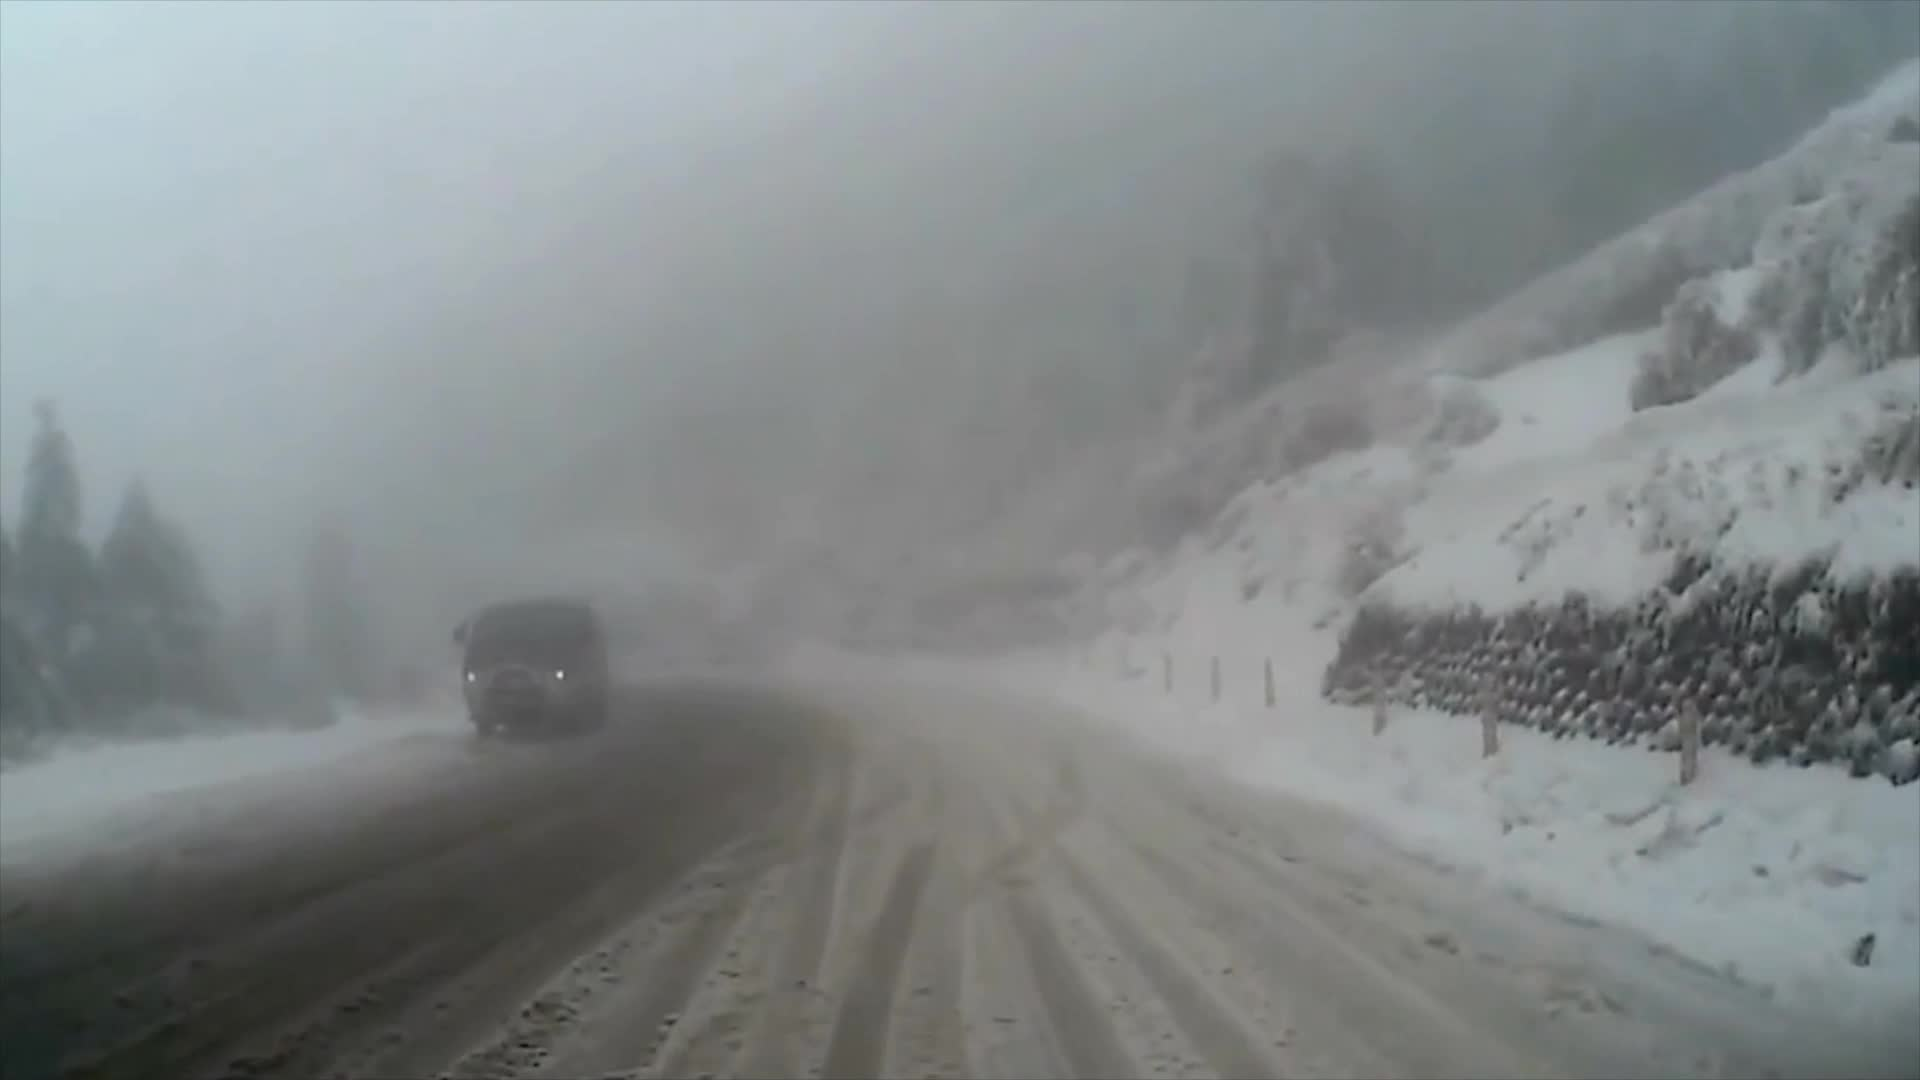vehicle: (448, 597, 607, 736)
